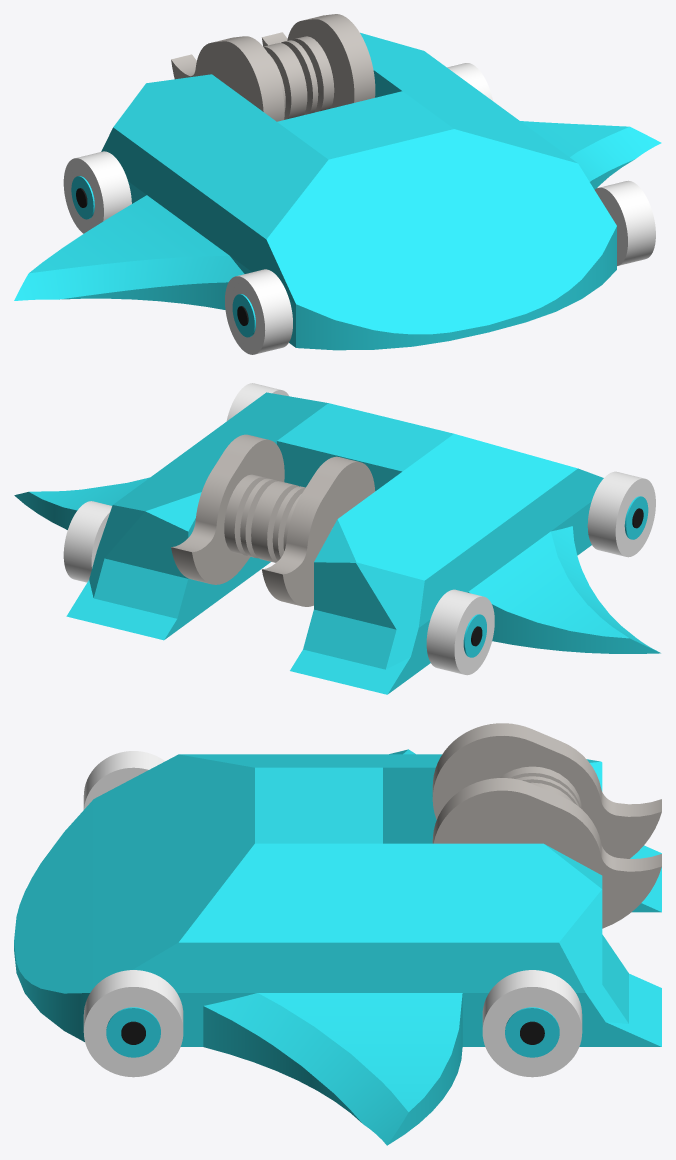
File: Disarray_Assembly_FBX.fbx
3 renders of one model, top to bottom at view 1: azimuth 30°, elevation 25°; view 2: azimuth 150°, elevation 25°; view 3: azimuth 270°, elevation 25°, orthographic. The views are drawn at different scales.
Parts seen in each view (by area): view 1: Body1 (×3), Body2, Body4, Body3; view 2: Body1 (×3), Body2, Body3, Body4; view 3: Body1 (×2), Body3, Body4, Body2.
Part boxes in pixels (x1,y1,x2,y2): Body1 (×3): [14, 14, 661, 350]; Body2: [225, 269, 292, 354]; Body4: [595, 180, 655, 265]; Body3: [447, 63, 492, 100]; Body1 (×3): [14, 392, 660, 694]; Body2: [587, 471, 655, 557]; Body3: [63, 501, 111, 582]; Body4: [226, 383, 288, 420]; Body1 (×2): [14, 723, 661, 1145]; Body3: [482, 970, 582, 1077]; Body4: [83, 970, 183, 1077]; Body2: [83, 751, 164, 809].
Bounding box in the file's own units: 46.43 × 11.2 × 32.5.
